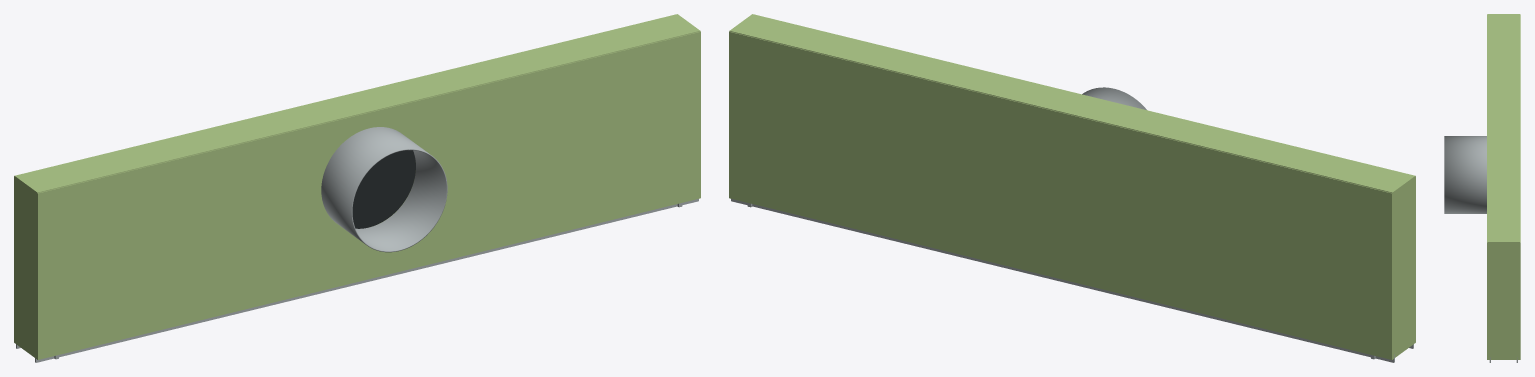
The model's file is edls-plenum-laterale.glb.
The picture shows the model from 3 angles, left to right: view 1: azimuth 30°, elevation 25°; view 2: azimuth 150°, elevation 25°; view 3: azimuth 270°, elevation 25°; orthographic projection. The views are drawn at different scales.
Visible parts, largest first — view 1: Pannello_laterale_forato, Pannello_superiore, Stacco aperto diametro 145, Testata, Interno posteriore, Profilo uscita; view 2: Pannello_posteriore, Pannello_superiore, Testata, Profilo uscita.001, Stacco aperto diametro 145; view 3: Pannello_superiore, Testata.001, Stacco aperto diametro 145, Pannello_posteriore, Pannello_laterale_forato.
Boxes of the visible parts, bbox=[...] form: Pannello_laterale_forato: bbox=[37, 31, 700, 359]; Pannello_superiore: bbox=[14, 14, 700, 193]; Stacco aperto diametro 145: bbox=[321, 127, 447, 252]; Testata: bbox=[14, 176, 37, 359]; Interno posteriore: bbox=[352, 150, 415, 228]; Profilo uscita: bbox=[35, 199, 698, 362]; Pannello_posteriore: bbox=[729, 31, 1392, 359]; Pannello_superiore: bbox=[729, 14, 1415, 193]; Testata: bbox=[1392, 177, 1415, 358]; Profilo uscita.001: bbox=[731, 199, 1394, 362]; Stacco aperto diametro 145: bbox=[1082, 87, 1146, 109]; Pannello_superiore: bbox=[1487, 14, 1519, 242]; Testata.001: bbox=[1487, 242, 1519, 359]; Stacco aperto diametro 145: bbox=[1444, 136, 1486, 213]; Pannello_posteriore: bbox=[1519, 14, 1520, 359]; Pannello_laterale_forato: bbox=[1487, 14, 1488, 359].
Bounding box in the file's own units: 1 × 0.247 × 0.141.
